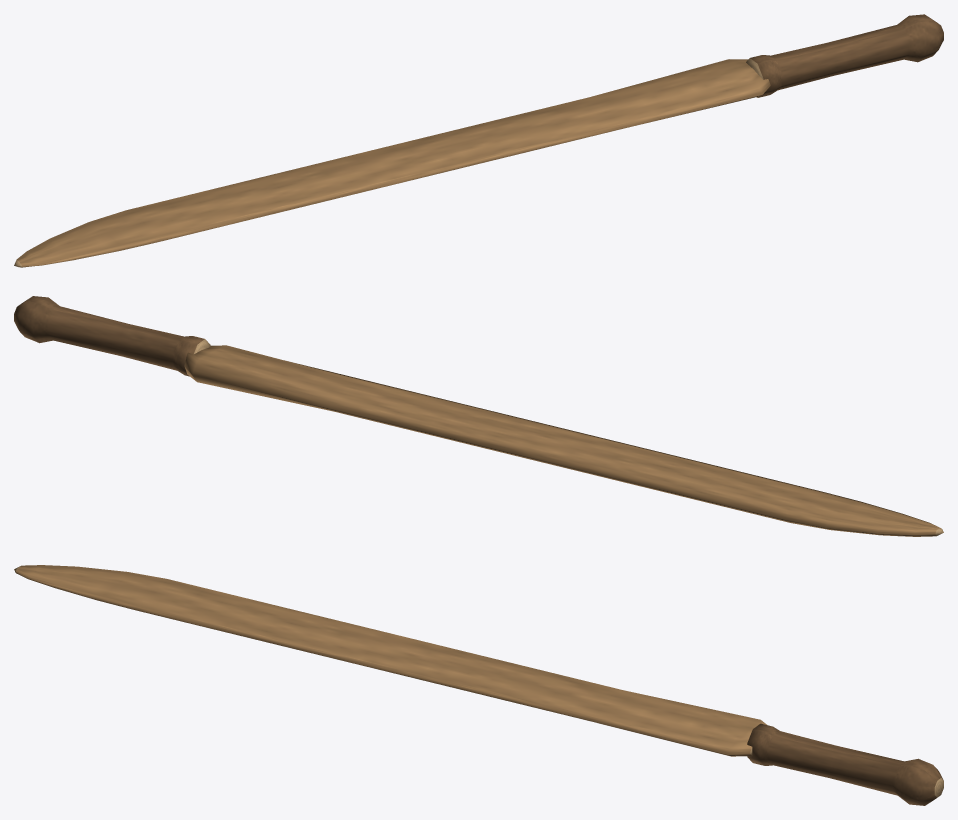
Rendered from sword_beater.glb.
The picture shows the model from 3 angles, top to bottom: view 1: azimuth 30°, elevation 25°; view 2: azimuth 150°, elevation 25°; view 3: azimuth 330°, elevation 25°; orthographic projection.
Visible parts, largest first — view 1: sword_beater; view 2: sword_beater; view 3: sword_beater.
Part boxes in pixels (left/top/right/bottom): sword_beater: left=14, top=14, right=943, bottom=267; sword_beater: left=14, top=296, right=943, bottom=536; sword_beater: left=14, top=565, right=943, bottom=805.
Size of the model in its own units: 0.724 by 0.0296 by 0.052.
1 material, 1 textured.
